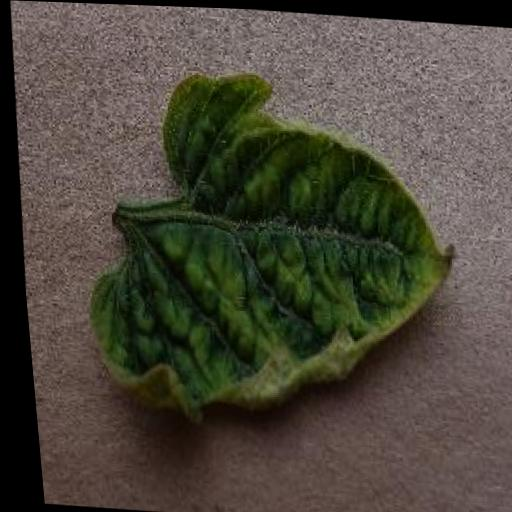Yellow Leaf Curl Virus: (58, 59, 470, 435)
